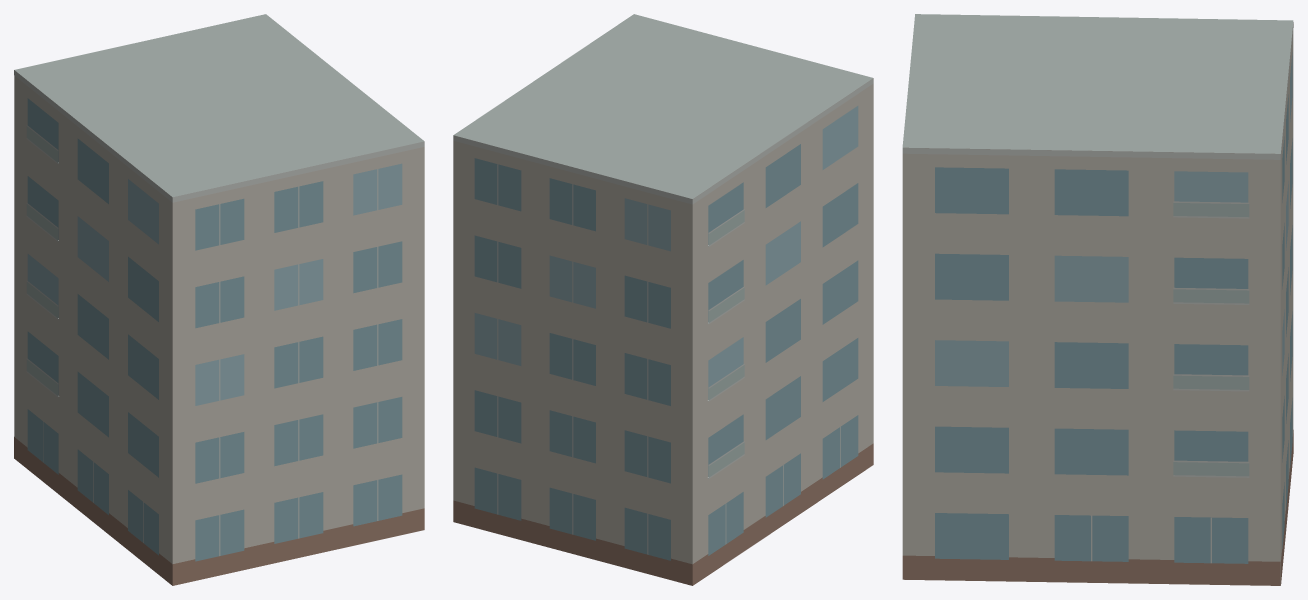
Rendered from survey-upis-33016873.glb.
The picture shows the model from 3 angles, left to right: view 1: azimuth 30°, elevation 25°; view 2: azimuth 150°, elevation 25°; view 3: azimuth 270°, elevation 25°; orthographic projection. The views are drawn at different scales.
Visible parts, largest first — view 1: survey-upis-33016873.tmp; view 2: survey-upis-33016873.tmp; view 3: survey-upis-33016873.tmp.
Part boxes in pixels (x1,y1,x2,y2): survey-upis-33016873.tmp: [14, 14, 424, 585]; survey-upis-33016873.tmp: [453, 14, 873, 585]; survey-upis-33016873.tmp: [902, 14, 1293, 585].
Bounding box in the file's own units: 12.09 × 17.4 × 14.28.
